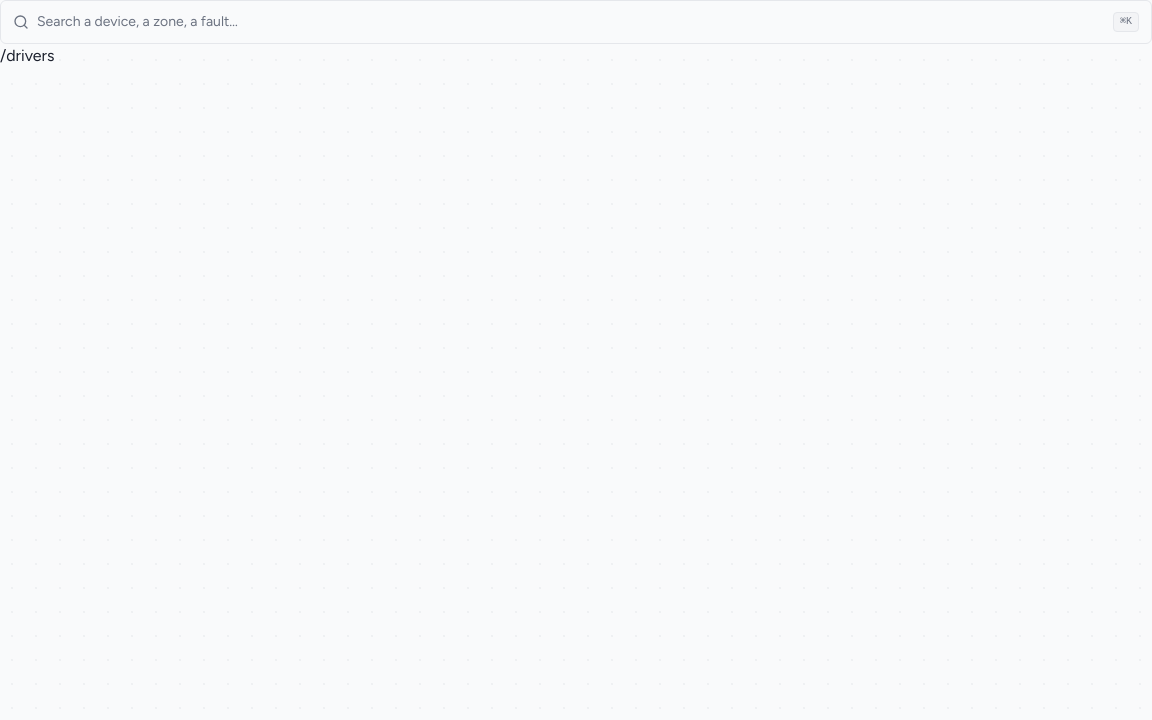
Test case: GlobalSearch › caps the device group, reports overflow, and opens the best match with Enter
The width and height of the screenshot is (1152, 720).
Type keys "{Meta>}k{/Meta}"
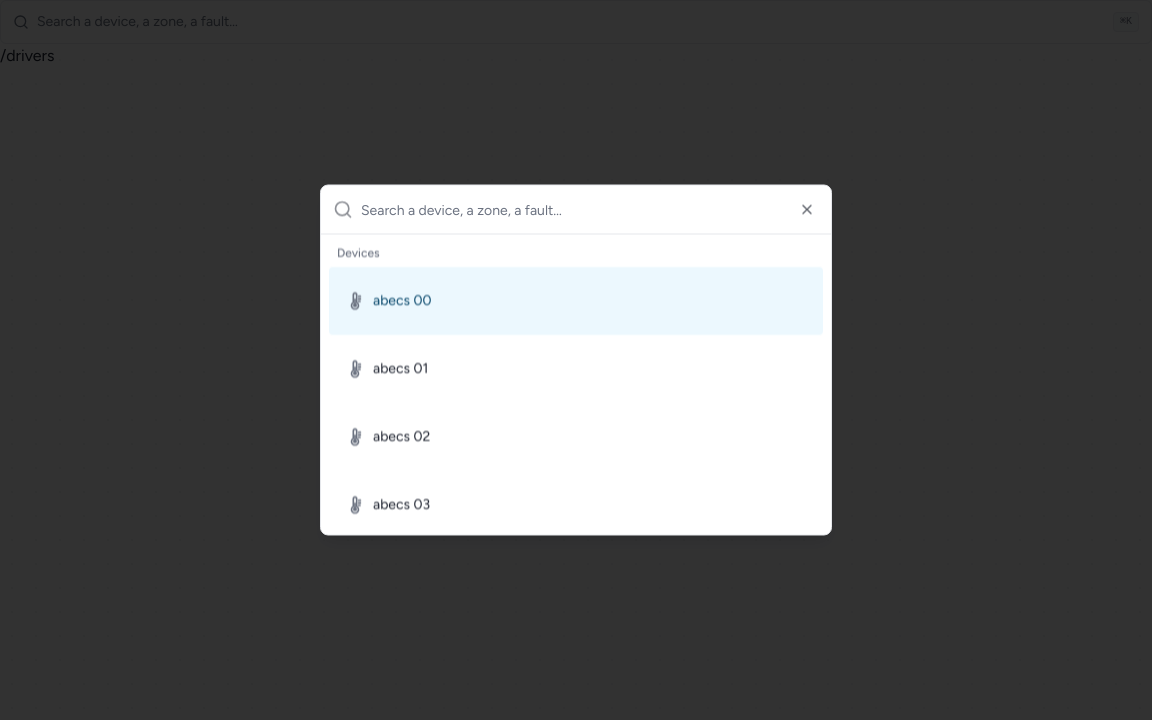
Type "ECS" into the dropdown at [590, 210], box [361, 186, 819, 234]
(page scrolled)
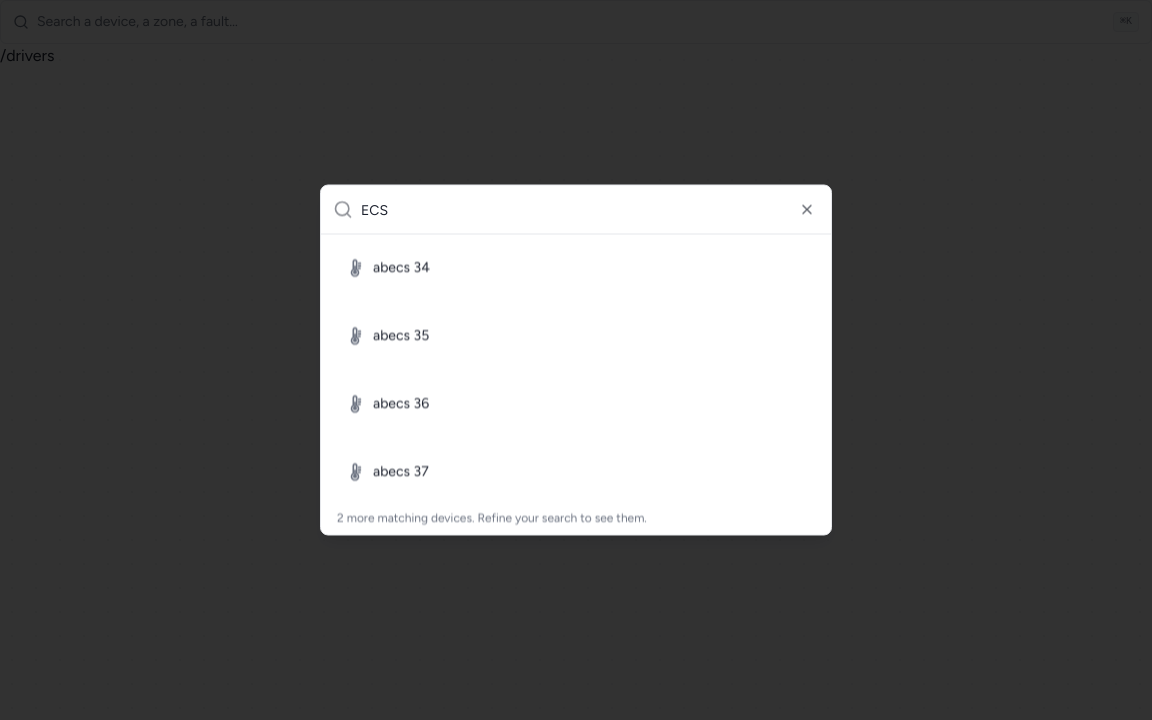
Expected: the message shows "2 more matching devices", [337, 512, 647, 526]
Press Enter
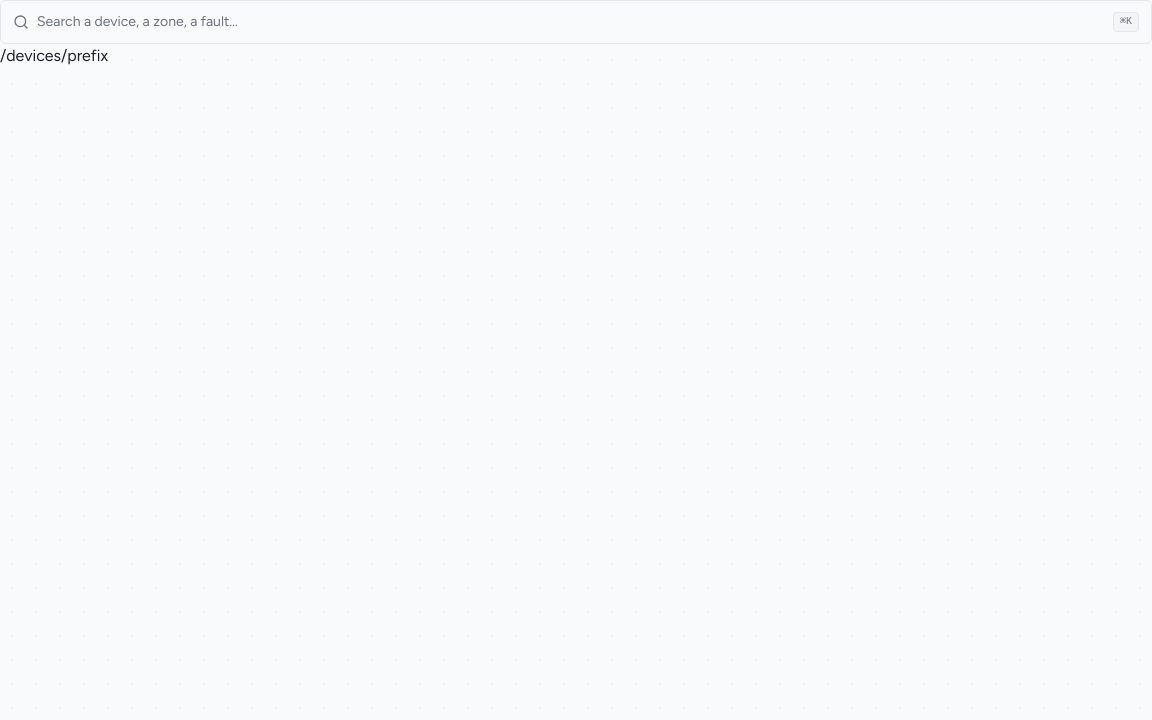
Expected: the text with test id "pathname" reads "/devices/prefix", [0, 46, 108, 65]
